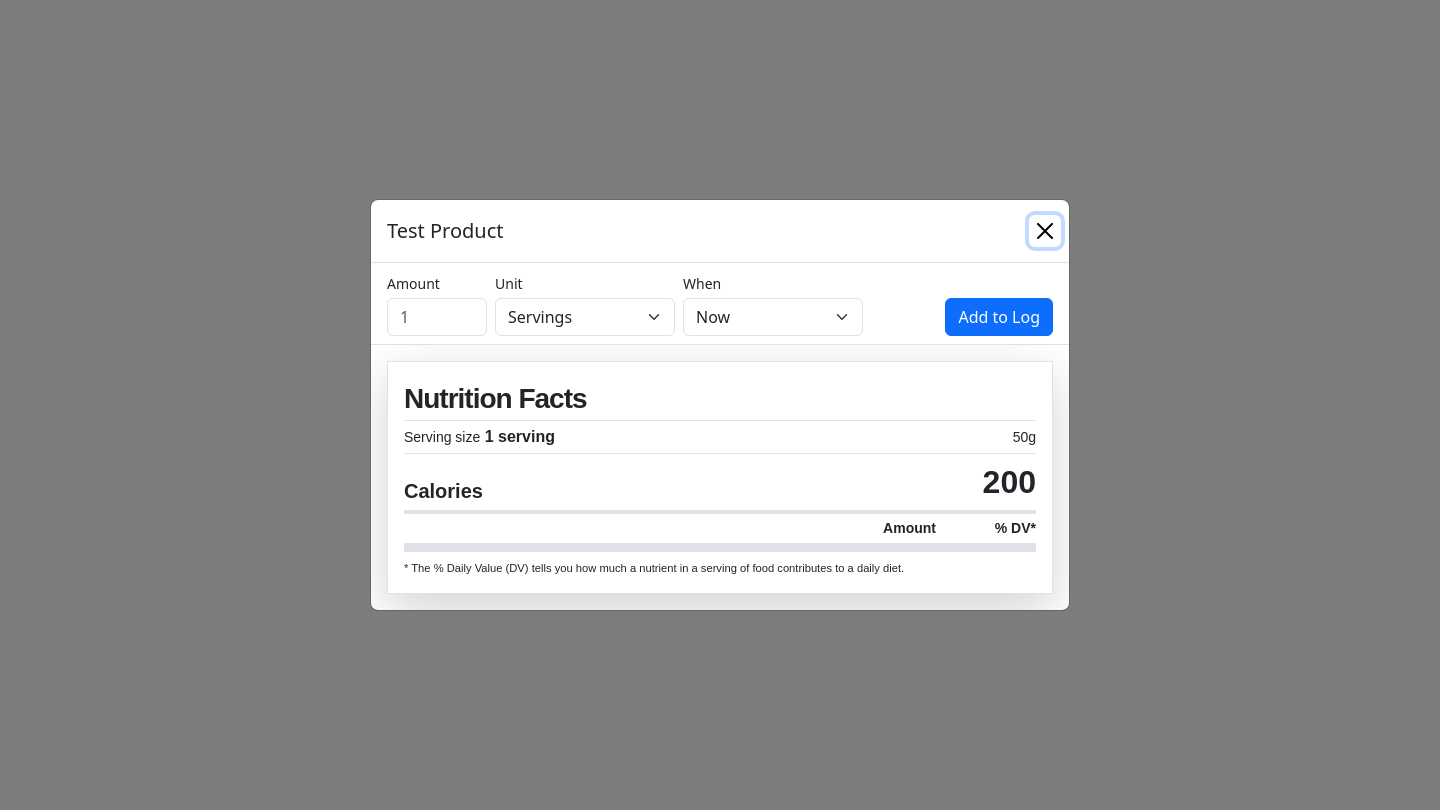
LogModal › sends timestamp on create
This screenshot has width=1440, height=810.
Click the button "Add to Log": x=999, y=317 x1=945 y1=298 x2=1053 y2=336
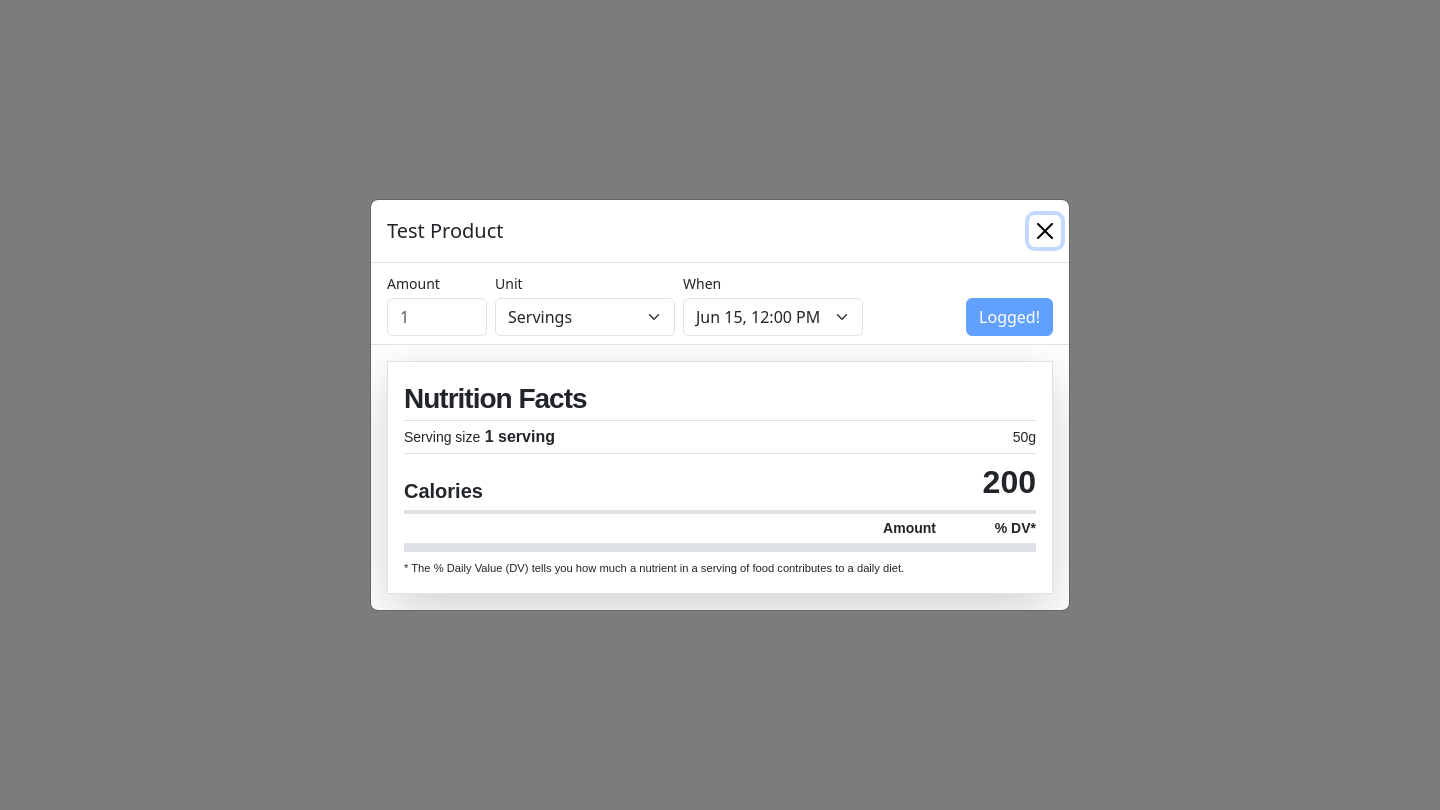
Check: the button "Logged!" is shown, box x1=966 y1=298 x2=1053 y2=336
